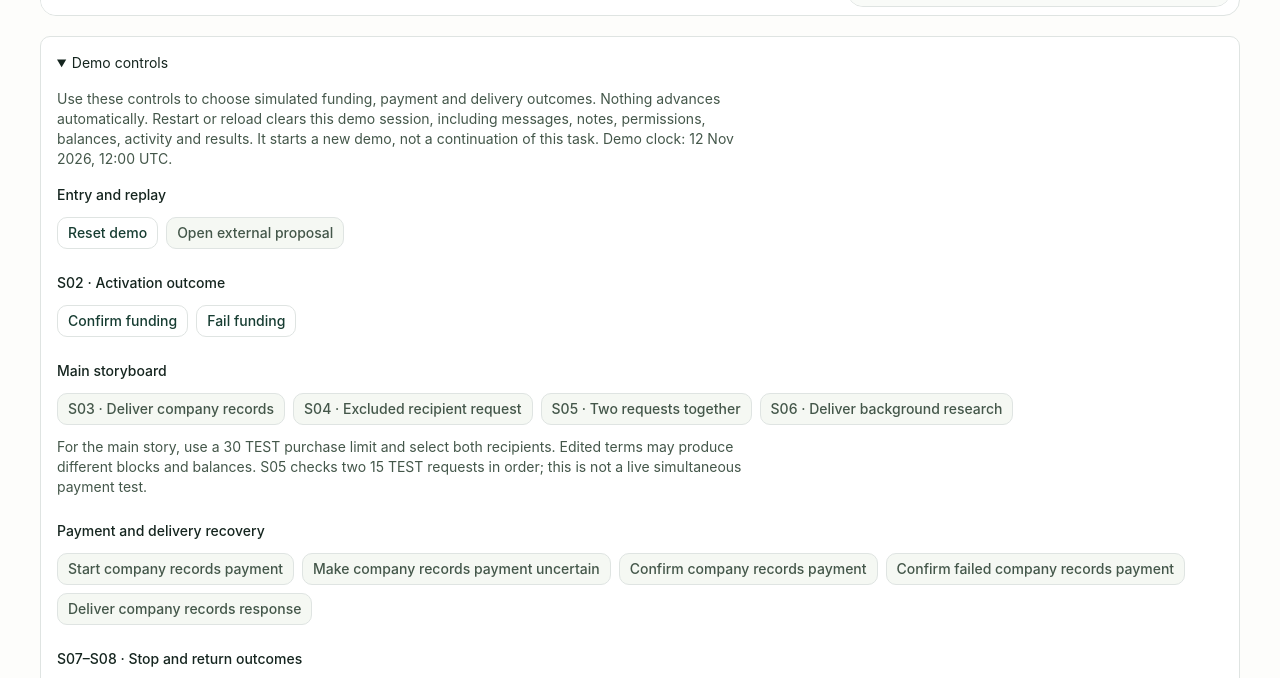
Test: active Activity stays non-collapsible with every event after Hide and Show task panel
The width and height of the screenshot is (1280, 678).
Earlier steps of the test are not shown.
(page scrolled)
Click the button "Confirm funding".
click(123, 321)  # box top-left (57, 305), bottom-right (188, 337)
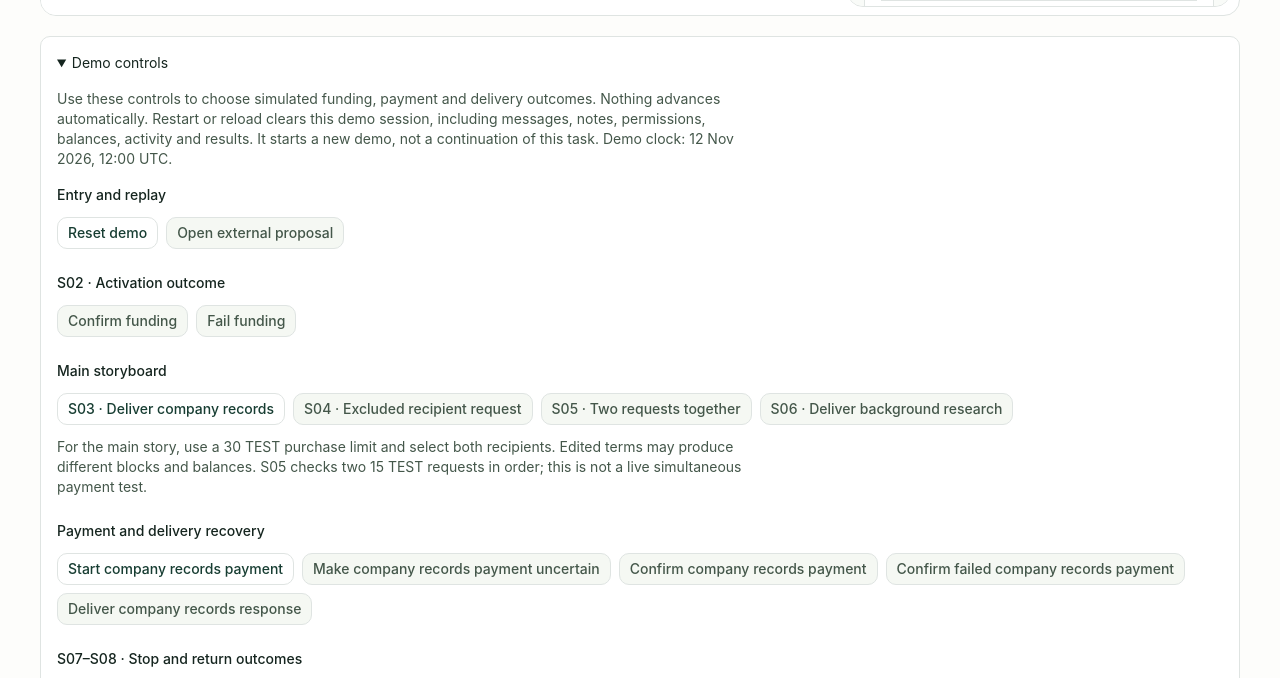
Click the button "S03 · Deliver company records".
click(171, 409)  # box top-left (57, 393), bottom-right (285, 425)
(page scrolled)
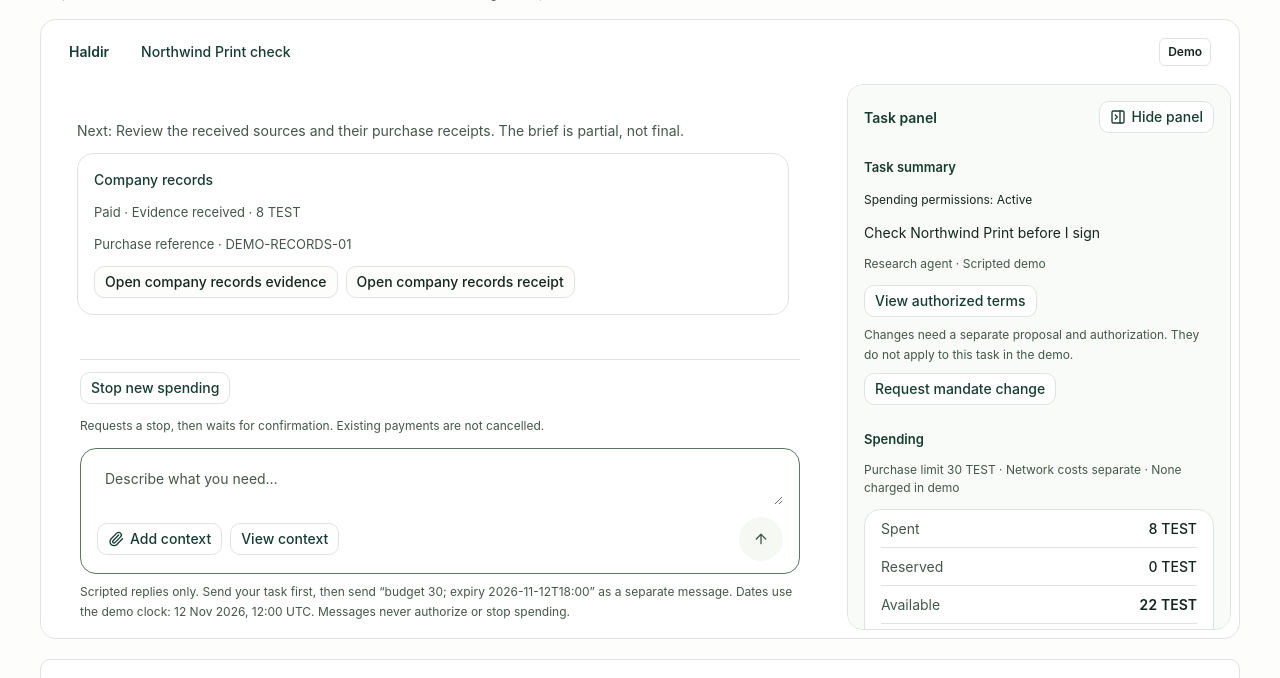
Click the button "Hide panel".
click(1156, 117)  # box top-left (1098, 101), bottom-right (1214, 133)
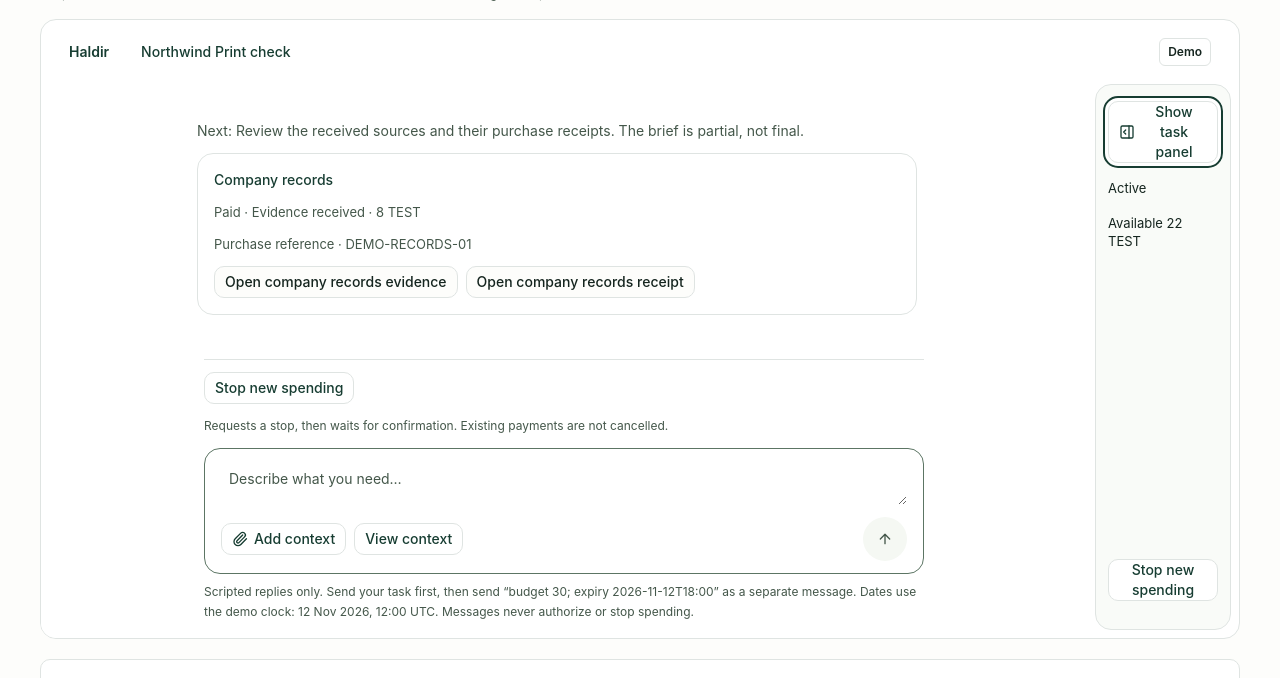
Click the button "Show task panel".
click(1163, 132)  # box top-left (1108, 101), bottom-right (1218, 163)
(page scrolled)
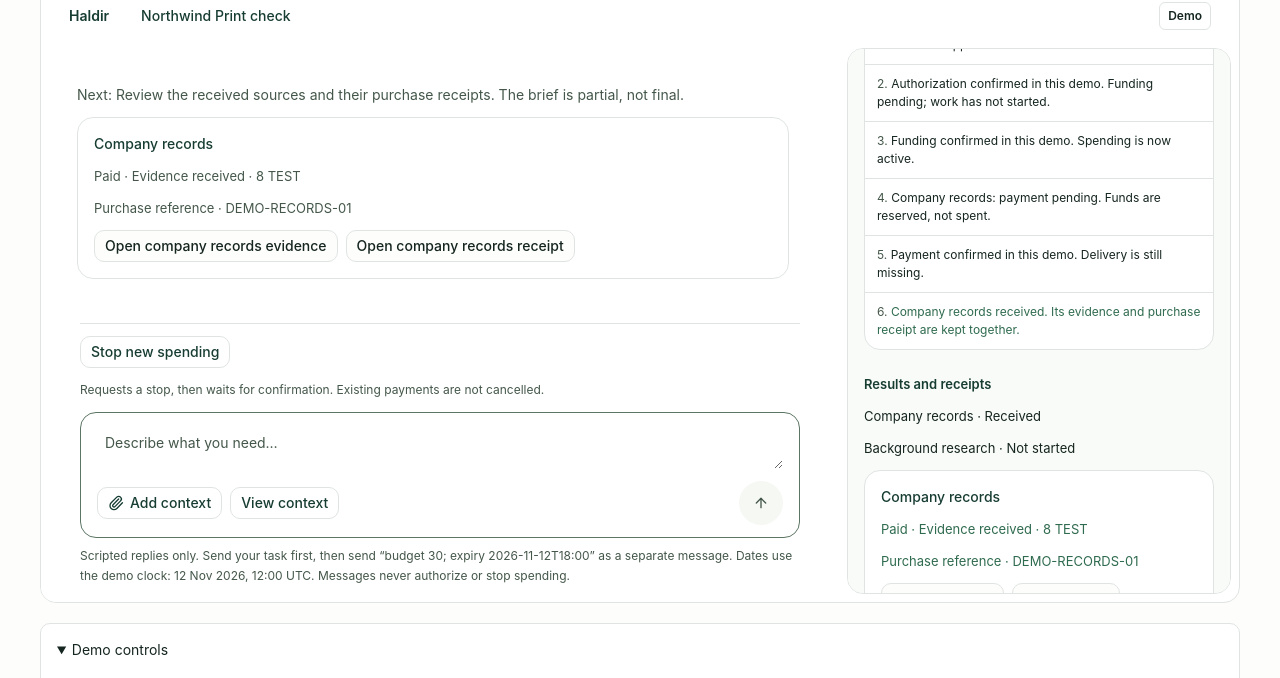
Check: the 1st list item is shown, box top-left (865, 65), bottom-right (1213, 122)
Check: the list item "3. Funding confirmed in this demo. Spending is now active." is shown, box top-left (865, 122), bottom-right (1213, 179)
Check: the 3rd list item is shown, box top-left (865, 179), bottom-right (1213, 236)
